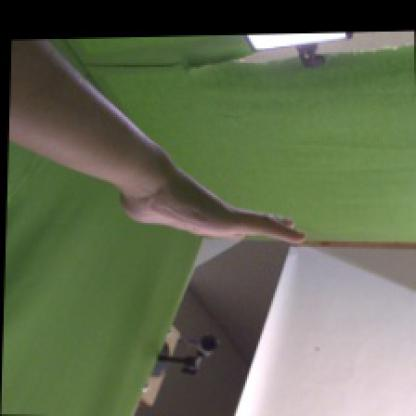Hand: (119, 168, 305, 244)
